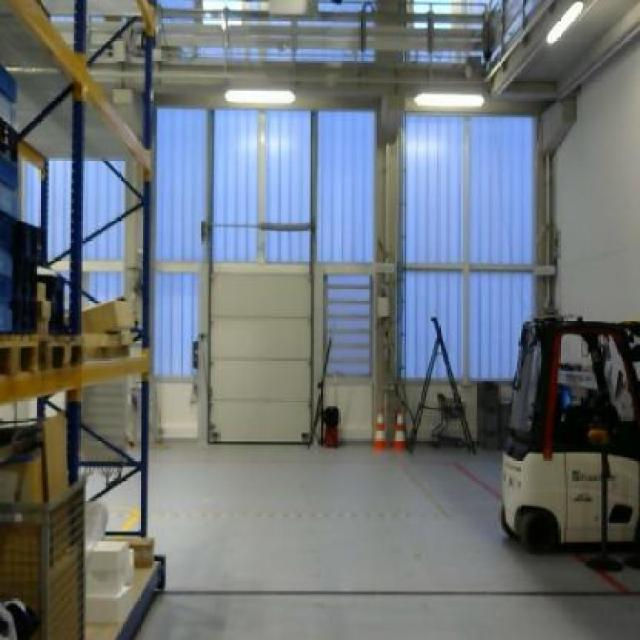box: (84, 298, 136, 334)
